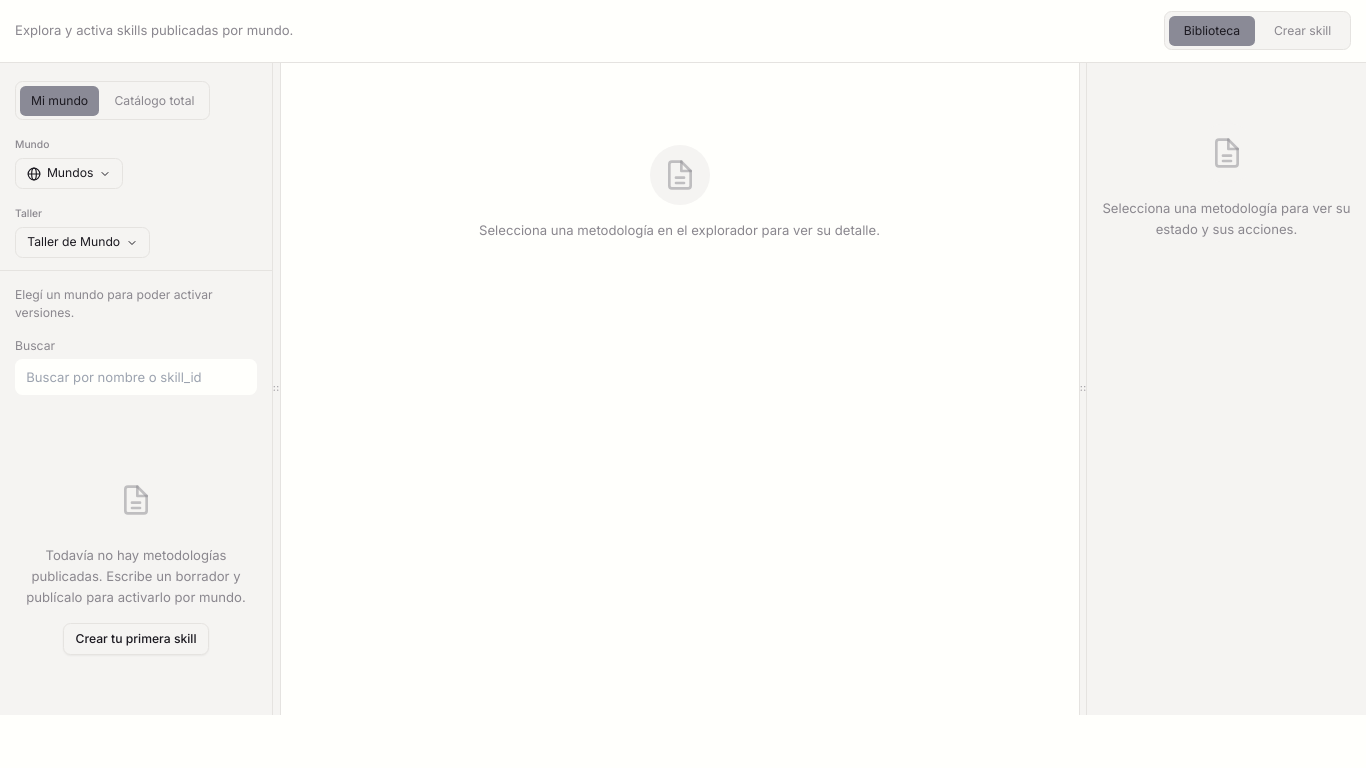
Test case: ToolWorkshop › navigates from the empty-state CTA to the Crear skill tab (UL-5 S1)
Click the button "Crear tu primera skill": [136, 639] box [63, 623, 209, 655]
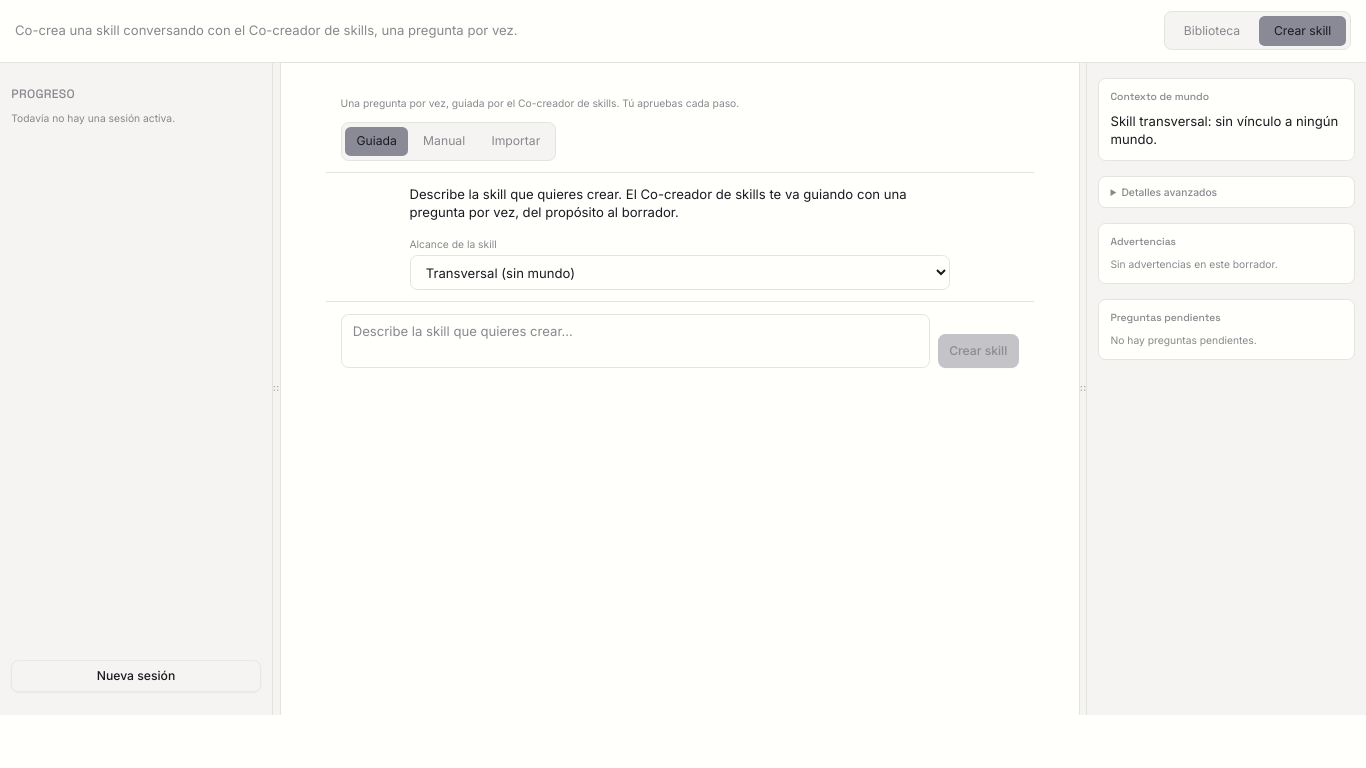
Expected: the text "Co-crea una skill conversando con el Co-creador de skills, una pregunta por vez." is shown, [15, 20, 518, 41]
